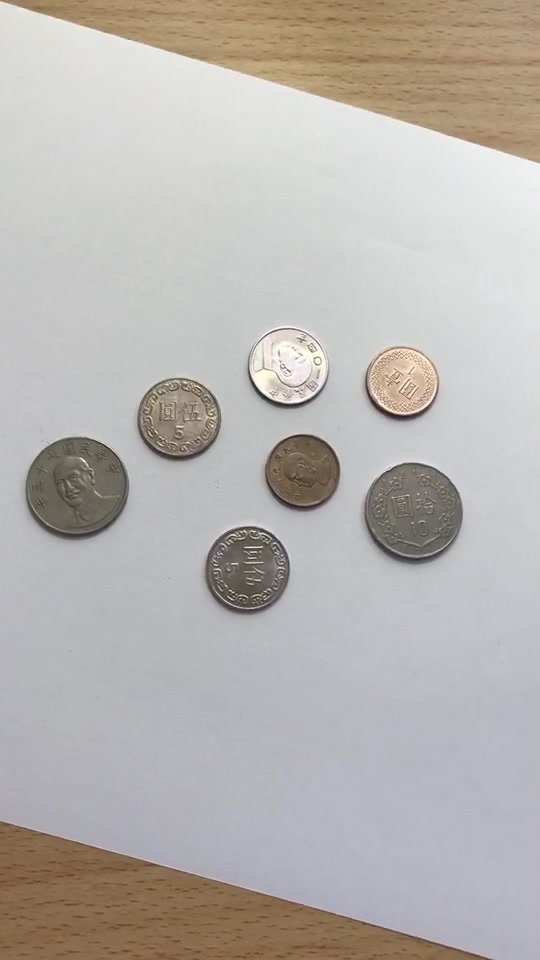1 dallar: (255, 431, 347, 515), (354, 342, 446, 426)
10 dallar: (17, 428, 139, 547), (352, 454, 474, 573)
5 dallar: (194, 515, 292, 616), (132, 370, 230, 471), (239, 315, 337, 416)
